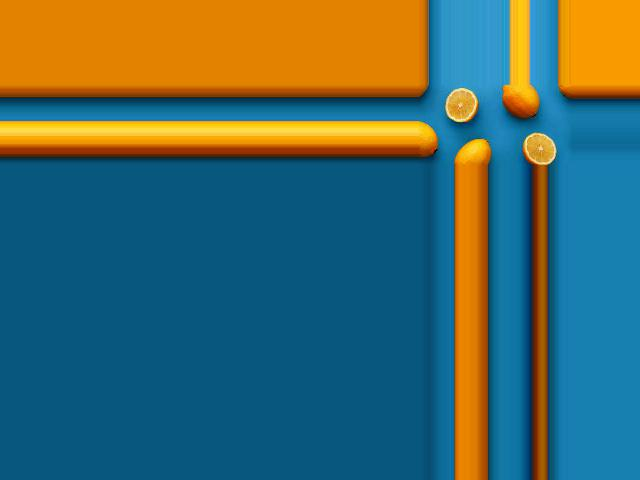lemon: (417, 118, 440, 153)
